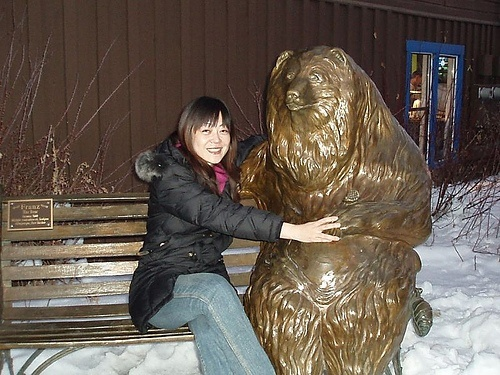head: (175, 92, 239, 167)
person: (127, 81, 335, 375)
